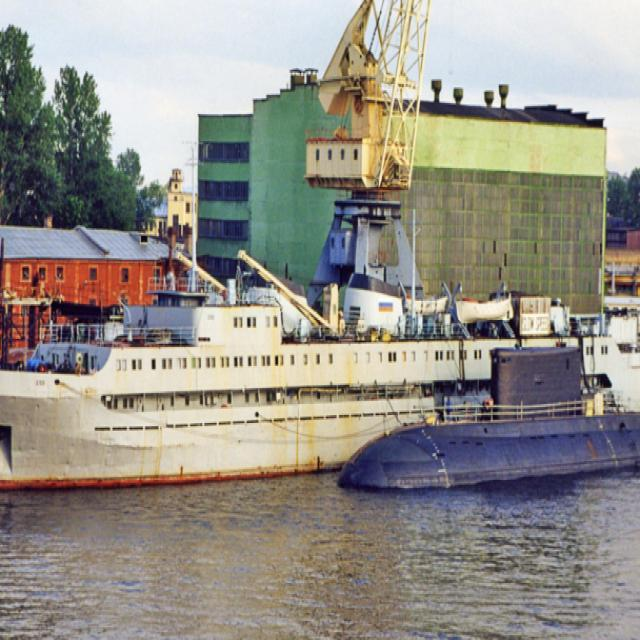submarine: (341, 340, 640, 492)
